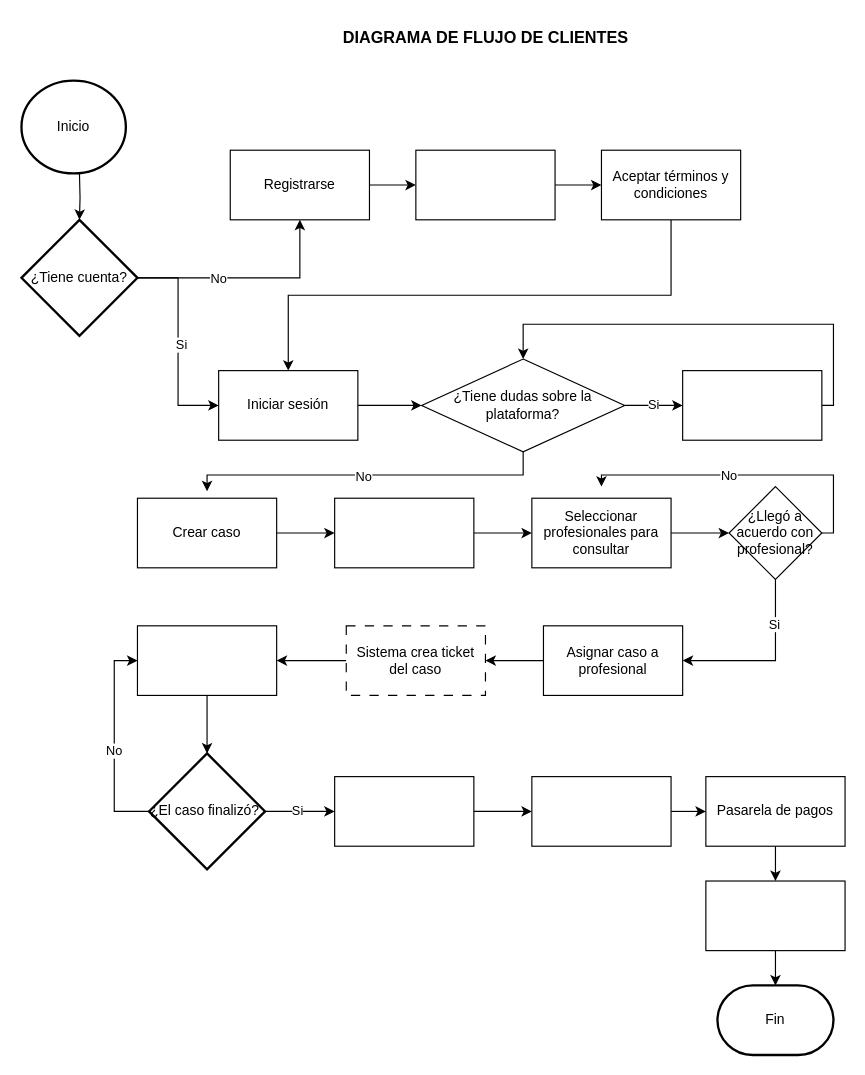
This 865x1075 diagram has some shape labels left out. Here are the shapes that lost their labels. From the top down, the centre of each, then its label:
At [485,184]: "Llenar formulario de registro".
At [752,404]: "Consultar chat".
At [404,532]: "Agregar información y adjuntos".
At [206,660]: "Consultar avances del caso".
At [404,810]: "Cerrar caso".
At [601,810]: "Descargar reporte del caso".
At [775,915]: "Agregar calificación y observaciones del profesional".
